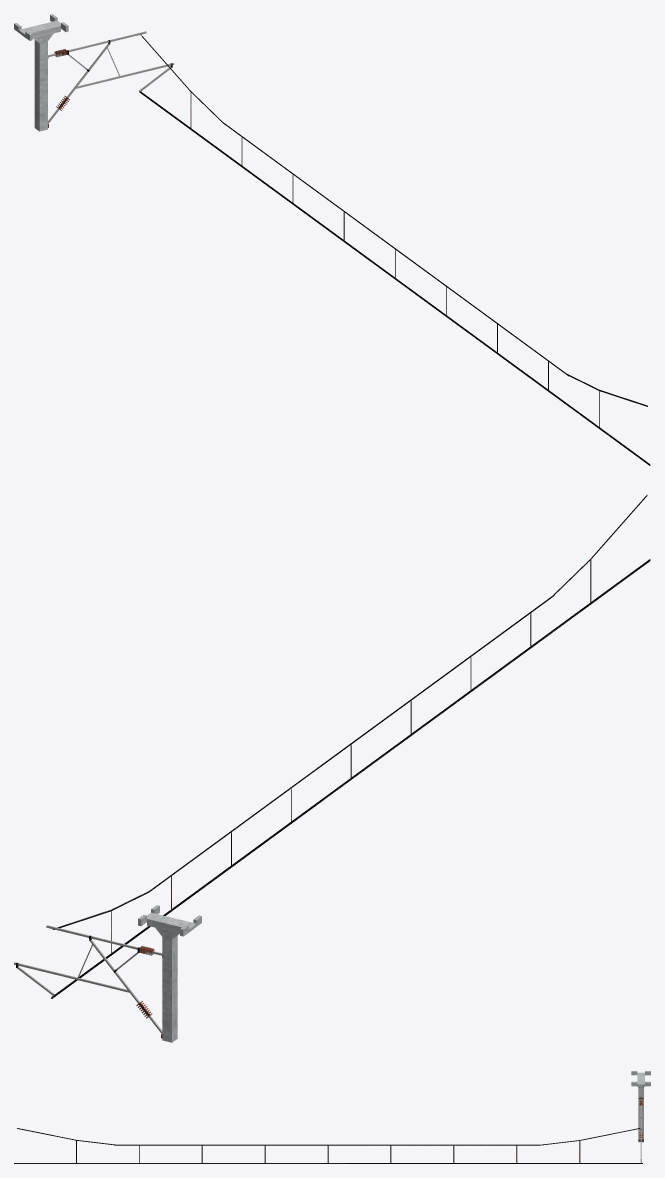
File: catenary_side_front.obj
The picture shows the model from 3 angles, top to bottom: view 1: azimuth 30°, elevation 25°; view 2: azimuth 150°, elevation 25°; view 3: azimuth 270°, elevation 25°; orthographic projection. The views are drawn at different scales.
Visible parts, largest first — view 1: cube; view 2: cube; view 3: cube.
Part boxes in pixels (left/top/right/bottom): cube: left=14, top=14, right=650, bottom=465; cube: left=14, top=494, right=650, bottom=1042; cube: left=14, top=1071, right=650, bottom=1163.
Size of the model in its own units: 3.44 by 2.25 by 20.25.
Materials: 3 (3 with a texture image).
